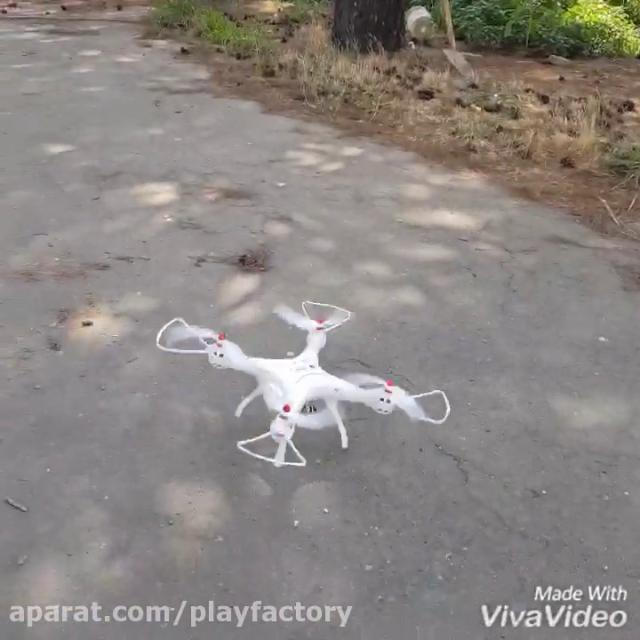drone: (153, 297, 451, 472)
